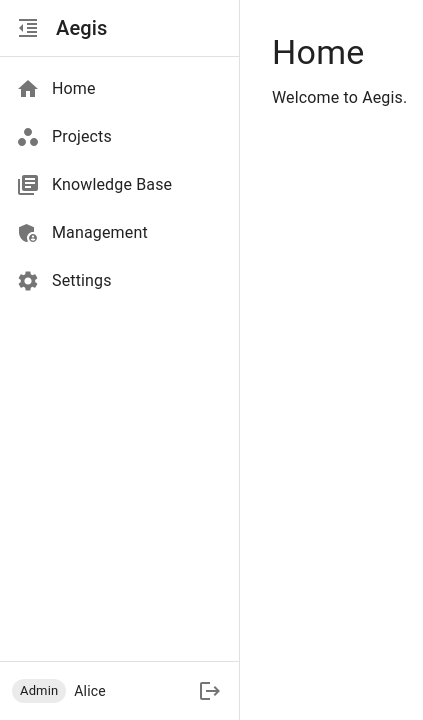
Scenario: /management/users — sidebar gating › expands the Users submenu when Management is clicked
Expected: the text "Users" is not shown
Click the button "Management". click: (82, 233)
box: top-left (16, 221), bottom-right (148, 245)
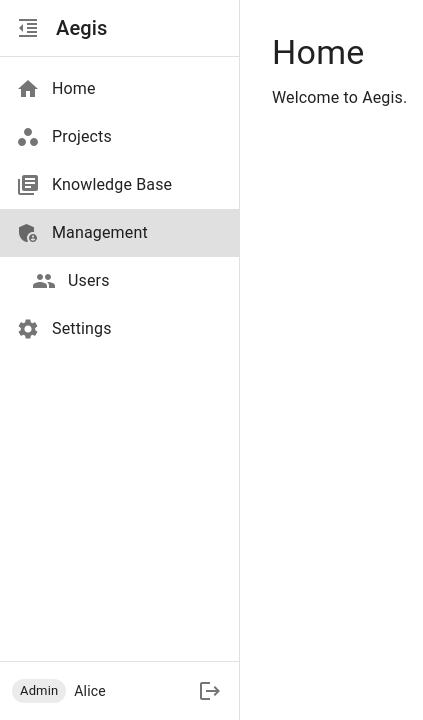
Result: the text "Users" is shown at top-left (68, 271), bottom-right (110, 290)
